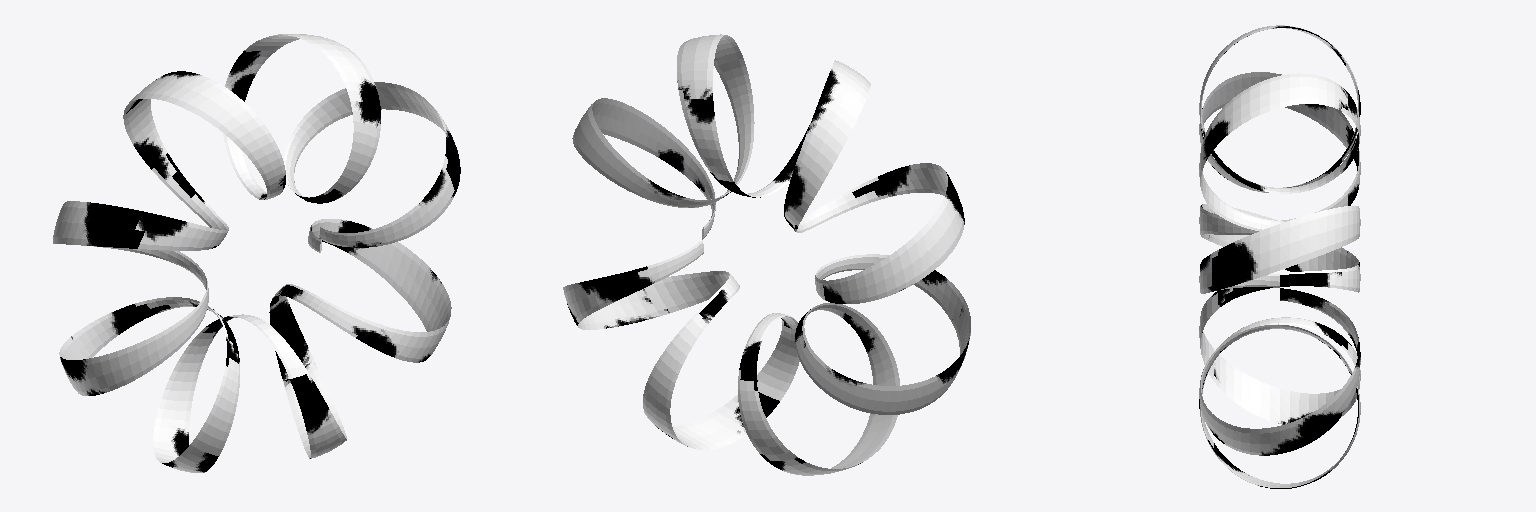
The picture shows the model from 3 angles: view 1: azimuth 30°, elevation 25°; view 2: azimuth 150°, elevation 25°; view 3: azimuth 270°, elevation 25°; orthographic projection.
Visible parts, largest first — view 1: test:pHelix1 test:polySurface1; view 2: test:pHelix1 test:polySurface1; view 3: test:pHelix1 test:polySurface1.
Boxes of the visible parts, <box> form: test:pHelix1 test:polySurface1: <box>53,34,460,472</box>; test:pHelix1 test:polySurface1: <box>563,34,970,475</box>; test:pHelix1 test:polySurface1: <box>1199,25,1360,488</box>.
Size of the model in its own units: 16.25 by 16.72 by 5.99.
Materials: 1 (1 with a texture image).